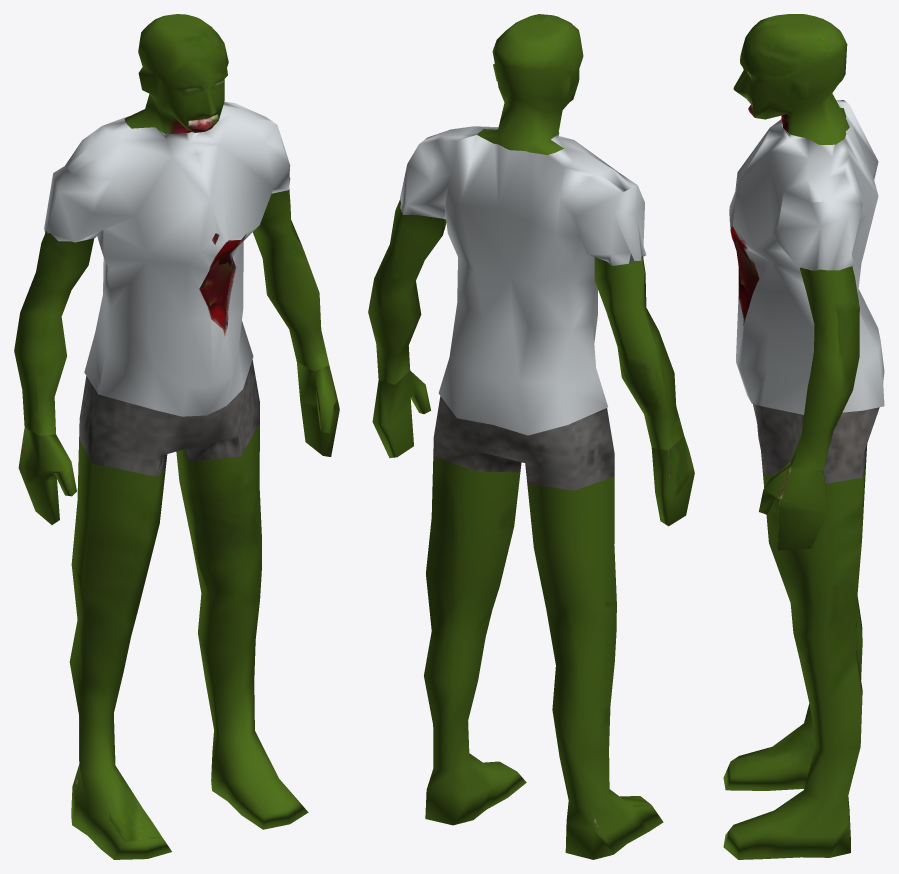
File: ZombieForTDS.obj
3 views of the same model, side by side, from view 1: azimuth 30°, elevation 25°; view 2: azimuth 150°, elevation 25°; view 3: azimuth 270°, elevation 25° (orthographic).
Visible parts, largest first — view 1: _.003, Cube.001, _; view 2: _.003, Cube.001, _; view 3: _.003, Cube.001, _.
Boxes of the visible parts, x1=… form: _.003: x1=14, y1=14, x2=339, y2=859; Cube.001: x1=44, y1=101, x2=290, y2=416; _: x1=79, y1=360, x2=259, y2=476; _.003: x1=368, y1=14, x2=694, y2=859; Cube.001: x1=400, y1=126, x2=646, y2=435; _: x1=433, y1=396, x2=614, y2=490; _.003: x1=723, y1=14, x2=866, y2=859; Cube.001: x1=729, y1=100, x2=884, y2=414; _: x1=753, y1=404, x2=879, y2=483.
Size of the model in its own units: 0.7427 by 1.88 by 0.348.
3 materials, 3 textured.
